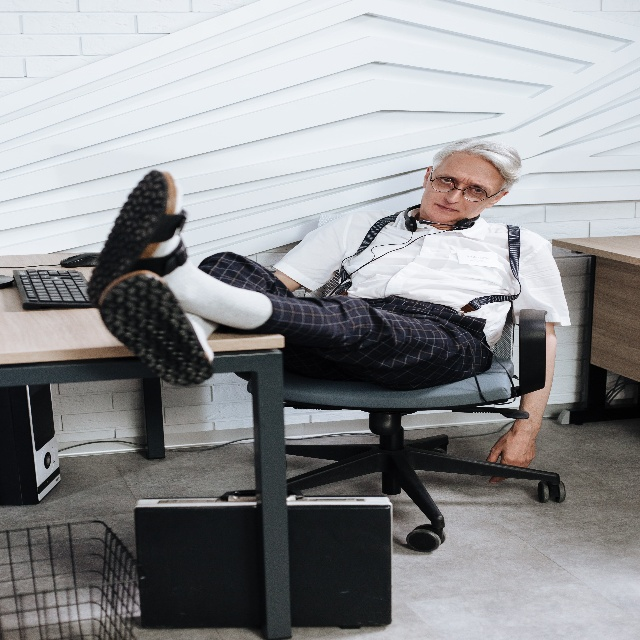Gafas: (430, 167, 506, 202)
Sin_guantes: (484, 422, 536, 485)
